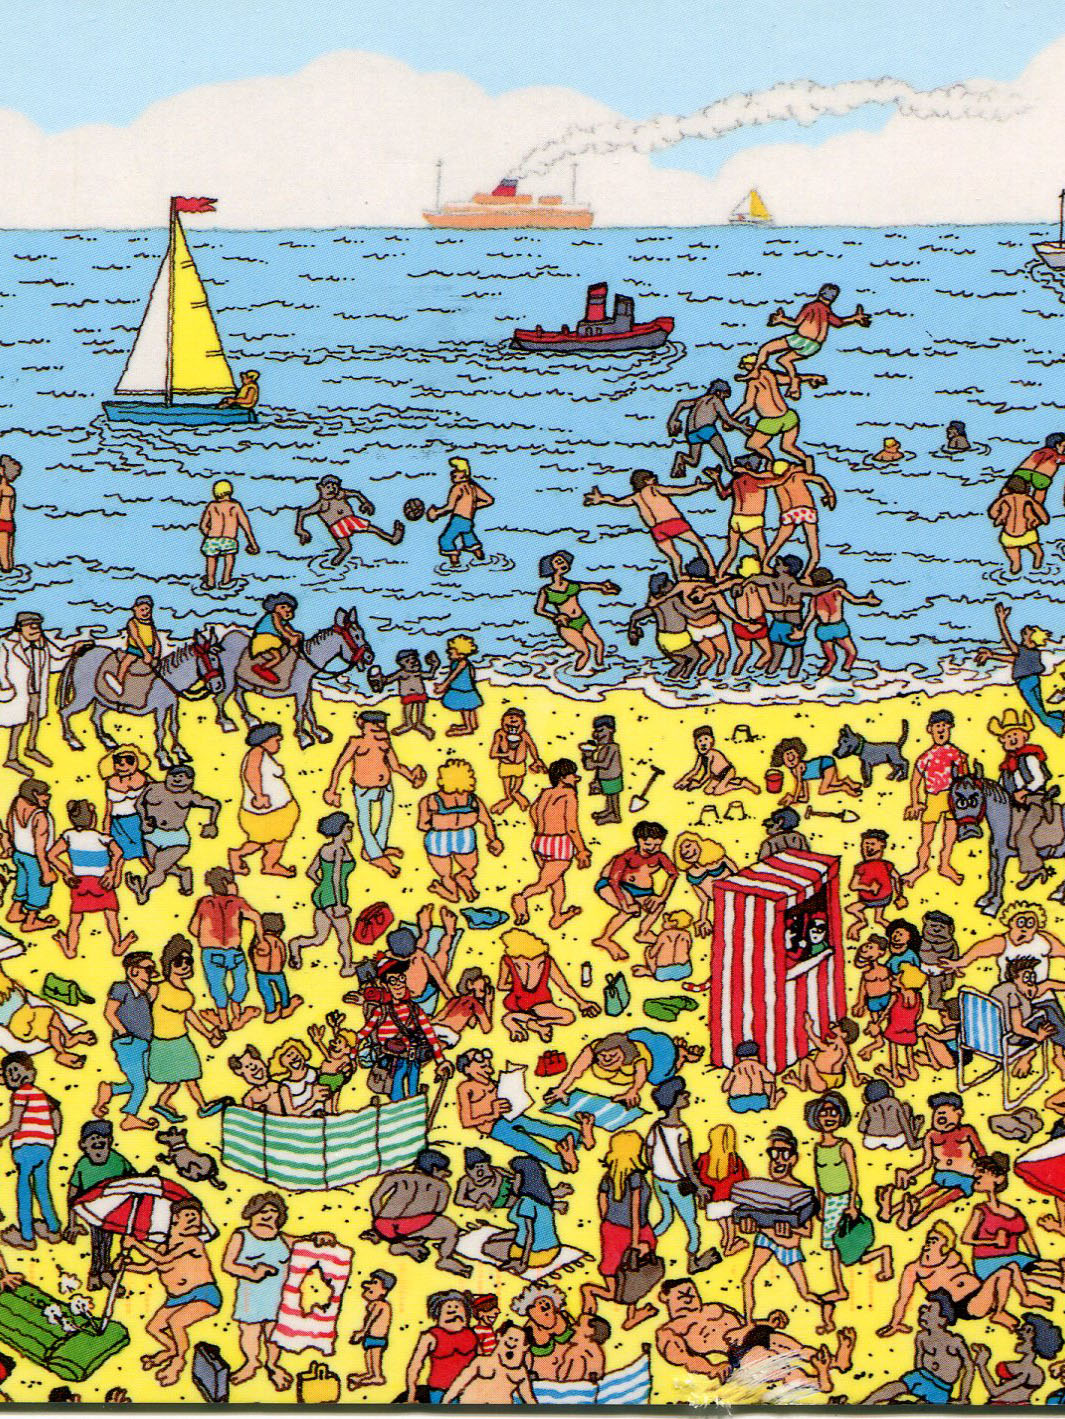waldo: (374, 950, 409, 1005)
